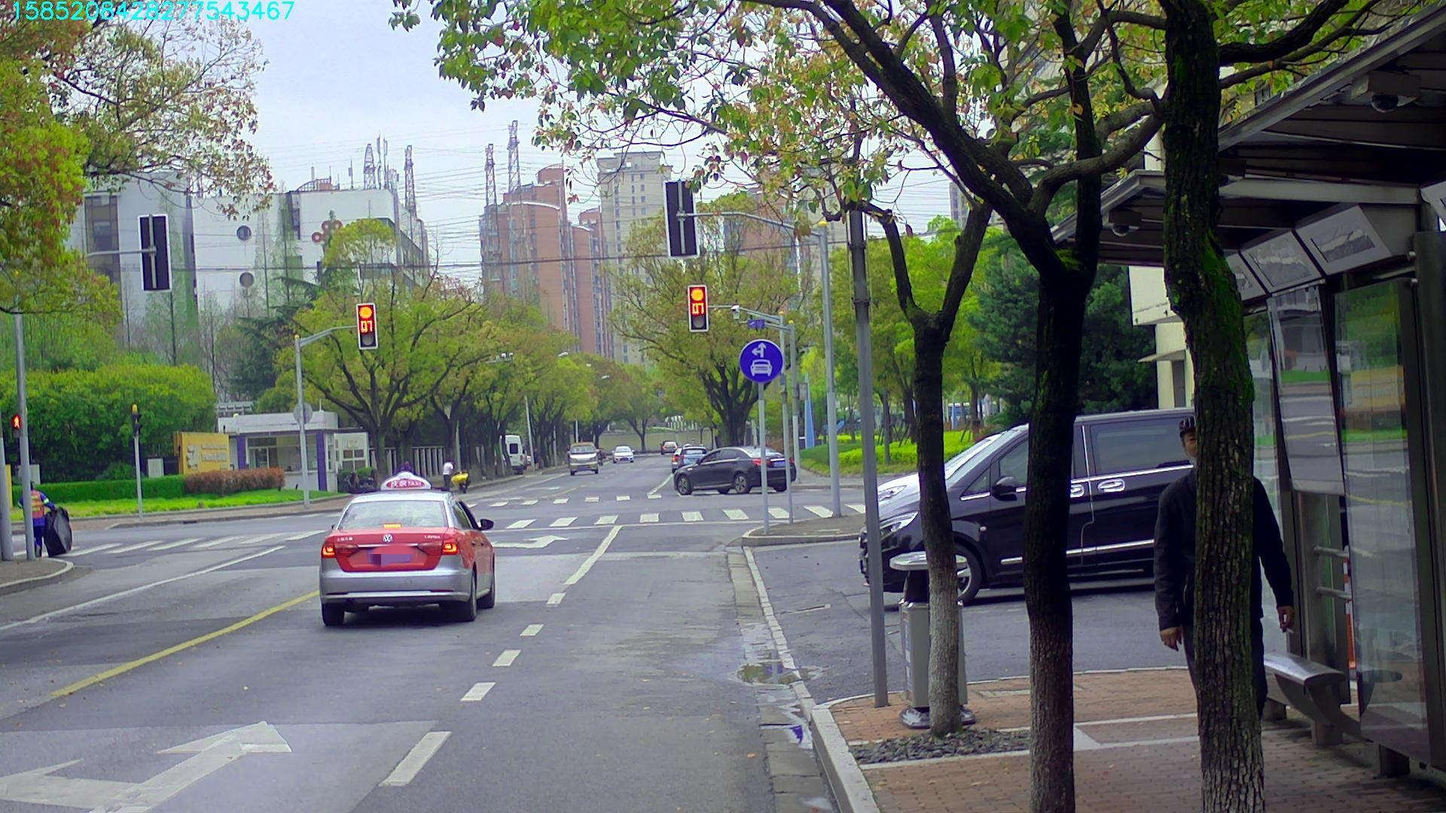red: (356, 303, 376, 347), (688, 285, 707, 330)
